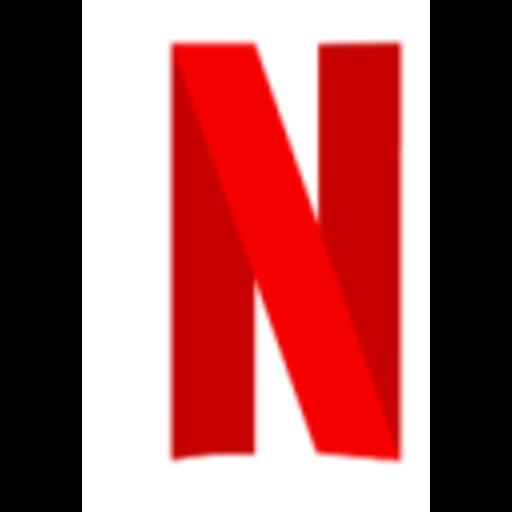Netflix: (82, 0, 430, 512)
